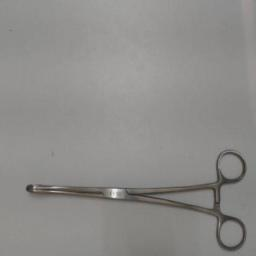Sponge Forceps: (20, 144, 250, 254)
